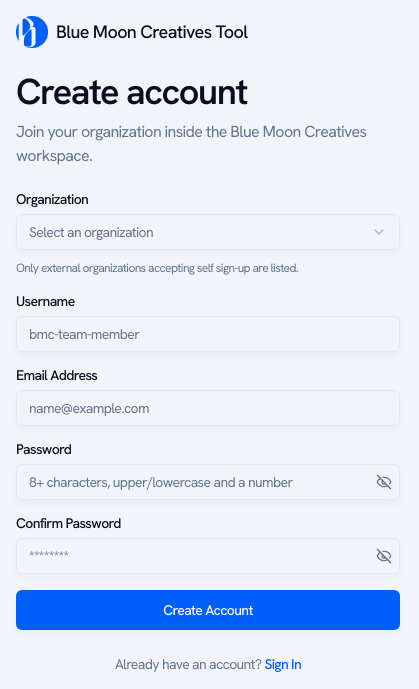
Test: SignUp page organization picker › uses a dropdown and never renders the internal organization
Click the dropdown labelled "Select an organization": (91, 232) [16,214,400,250]
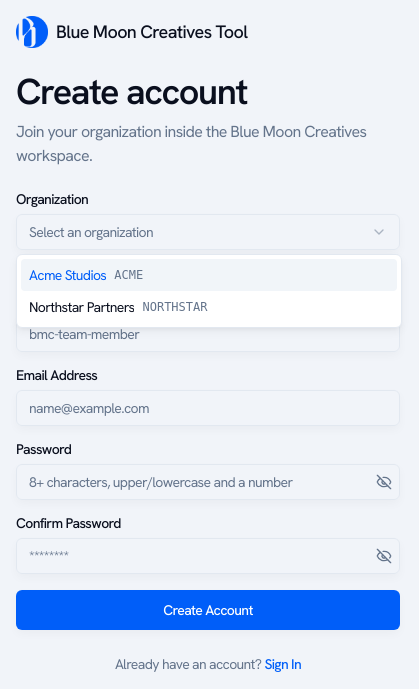
Expected: the option "Acme Studios ACME" is shown, [21,259,397,291]
Expected: the option "Northstar Partners NORTHSTAR" is shown, [29,298,208,316]
